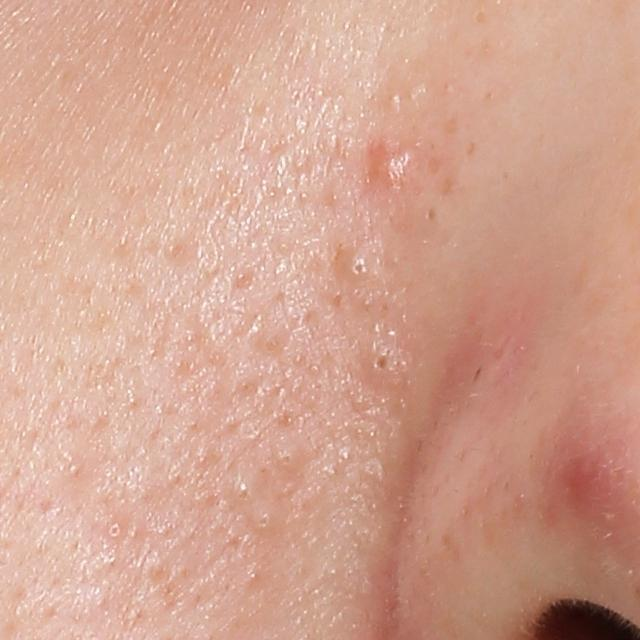comedo: (359, 339, 404, 388), (336, 245, 381, 292), (230, 470, 260, 506), (271, 442, 306, 472), (251, 504, 278, 536), (101, 512, 127, 543), (421, 204, 439, 223)
papule: (551, 445, 610, 520), (364, 137, 421, 198)
